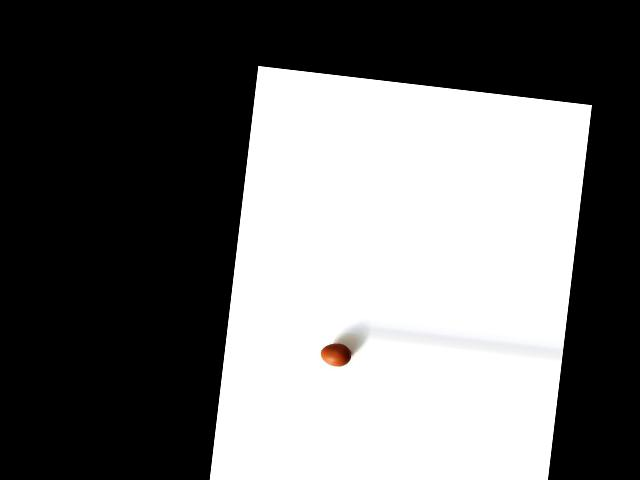egg: (319, 342, 352, 367)
